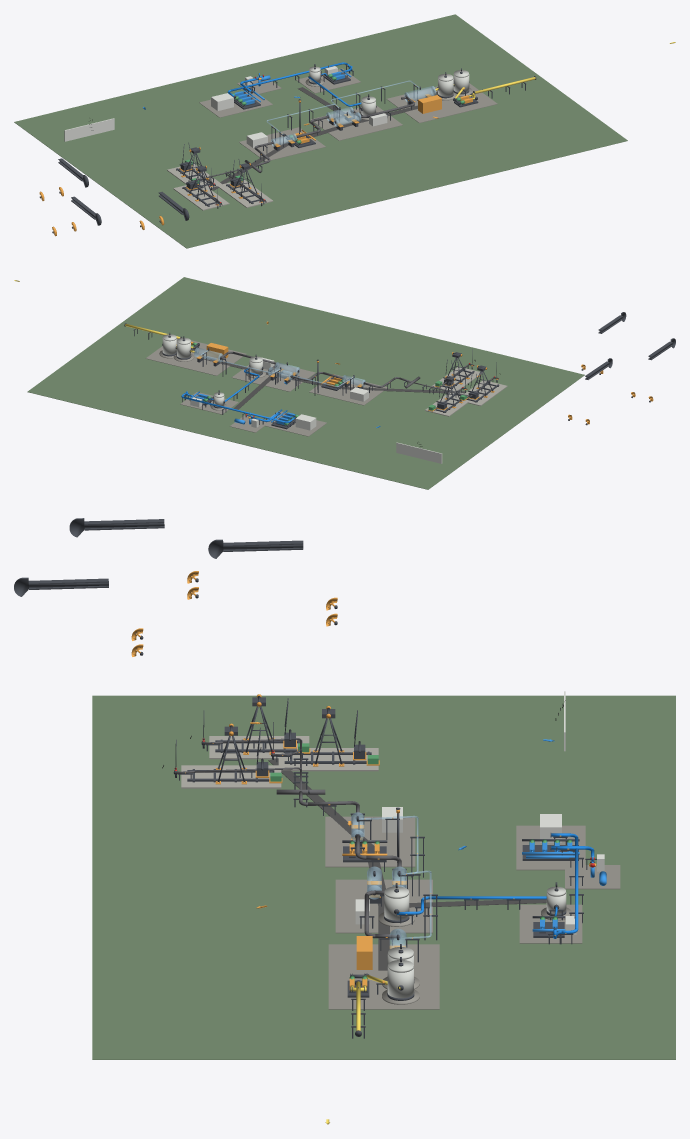
The model's file is field_development_complex.glb.
3 renders of one model, top to bottom at view 1: azimuth 30°, elevation 25°; view 2: azimuth 150°, elevation 25°; view 3: azimuth 270°, elevation 25°, orthographic. The views are drawn at different scales.
Parts seen in each view (by area): view 1: Field_ground, UPN_pad, UPSV_pad, DNS_pad, Legend_panel, Producing_well_2_pad, Producing_well_1_pad, BKNS_pad, KNS_pad, Producing_well_3_pad, UPN_heater; view 2: Field_ground, UPN_pad, UPSV_pad, DNS_pad, Legend_panel, Producing_well_1_pad, Producing_well_2_pad, BKNS_pad, Producing_well_3_pad, KNS_pad; view 3: Field_ground, UPN_pad, UPSV_pad, DNS_pad, Producing_well_2_pad, BKNS_pad, KNS_pad, Producing_well_1_pad, Producing_well_3_pad, Injection_well_pad.
Part boxes in pixels (box(x1,y1,x2,y2)): Field_ground: box(14, 14, 627, 248); UPN_pad: box(387, 83, 497, 123); UPSV_pad: box(310, 105, 402, 140); DNS_pad: box(239, 127, 325, 161); Legend_panel: box(64, 118, 114, 141); Producing_well_2_pad: box(218, 179, 273, 207); Producing_well_1_pad: box(173, 182, 229, 210); BKNS_pad: box(199, 92, 272, 117); KNS_pad: box(296, 68, 360, 93); Producing_well_3_pad: box(167, 164, 222, 191); UPN_heater: box(418, 95, 441, 113); Field_ground: box(27, 277, 584, 489); UPN_pad: box(146, 338, 246, 375); UPSV_pad: box(231, 364, 315, 391); DNS_pad: box(309, 374, 388, 405); Legend_panel: box(396, 442, 442, 463); Producing_well_1_pad: box(457, 380, 507, 406); Producing_well_2_pad: box(431, 367, 482, 391); BKNS_pad: box(265, 411, 326, 436); Producing_well_3_pad: box(425, 392, 467, 416); KNS_pad: box(180, 392, 238, 414); Field_ground: box(92, 695, 675, 1059); UPN_pad: box(328, 944, 439, 1009); UPSV_pad: box(335, 879, 432, 933); DNS_pad: box(325, 816, 415, 867); Producing_well_2_pad: box(181, 765, 281, 788); BKNS_pad: box(516, 825, 585, 870); KNS_pad: box(519, 904, 582, 943); Producing_well_1_pad: box(209, 736, 309, 759); Producing_well_3_pad: box(278, 748, 378, 771); Injection_well_pad: box(565, 865, 620, 889).
Size of the model in its own units: 92.99 by 8.2 by 47.65.
